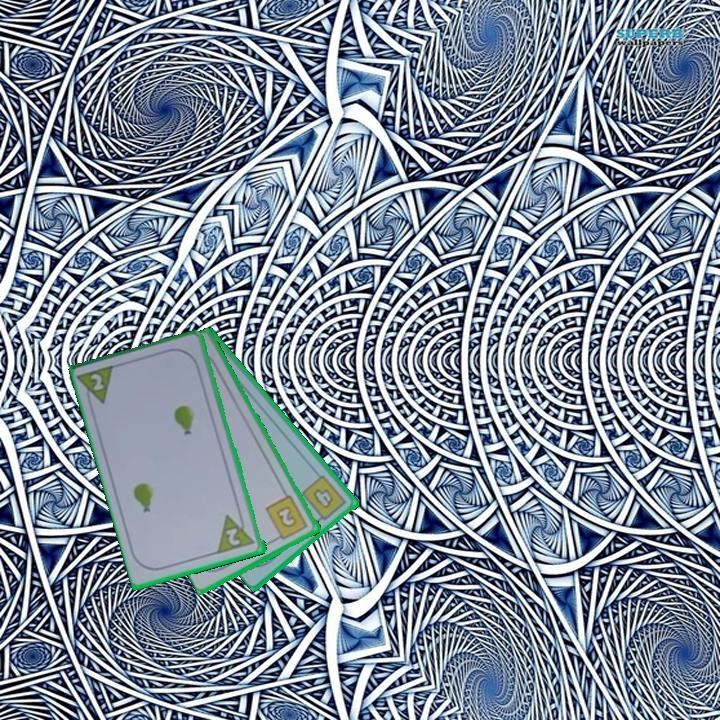2b: (262, 492, 311, 544)
2p: (215, 508, 258, 557), (87, 370, 108, 394)
4b: (299, 472, 350, 526)
